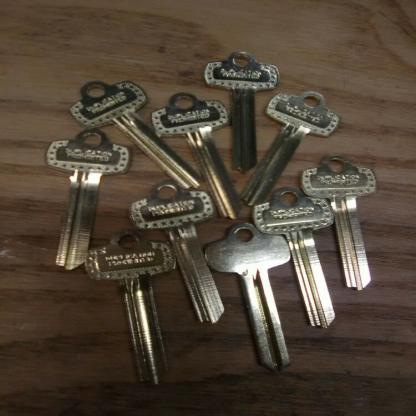key: (50, 52, 369, 367)
